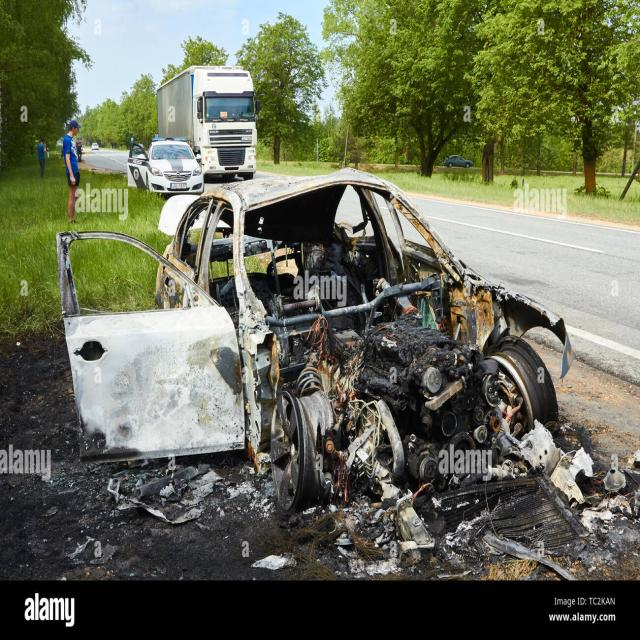Accident: (57, 162, 580, 516)
